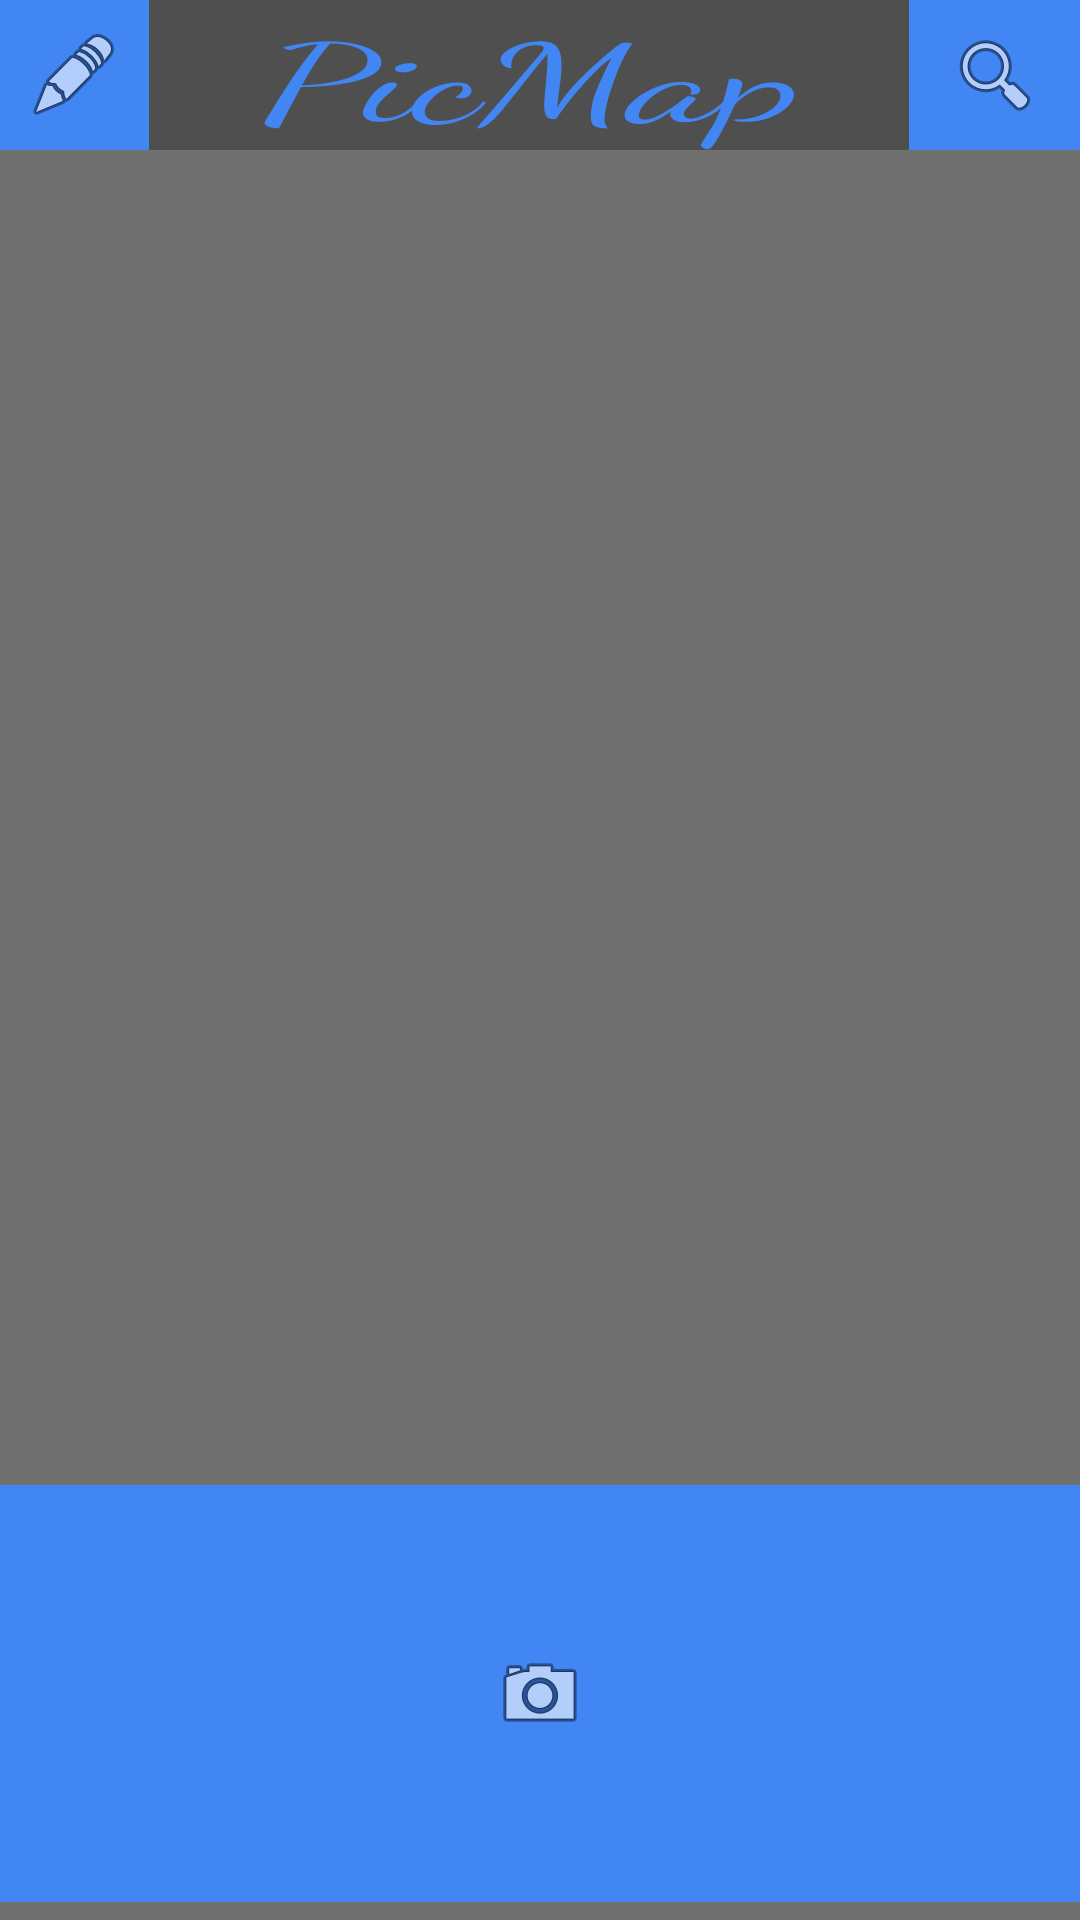

Point at icon controls on the screen. Image size 1080x1920, points as point (x, y).
edit: point (74, 75)
search: point (994, 75)
